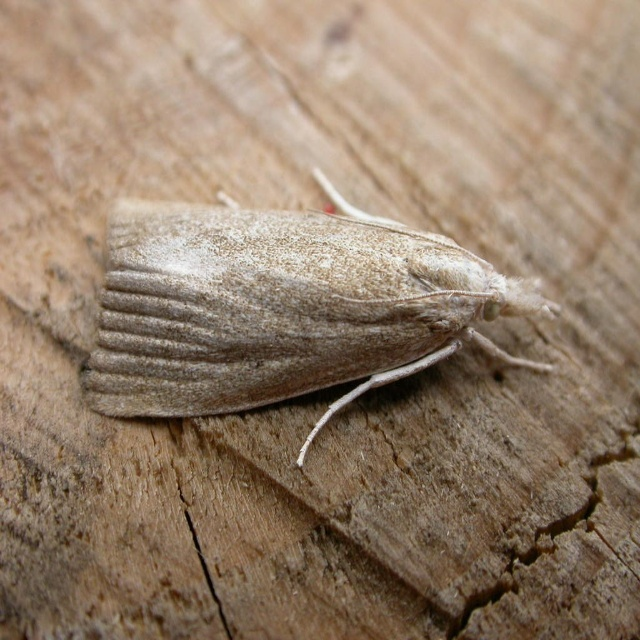Moths and butterflies: (80, 167, 562, 488)
